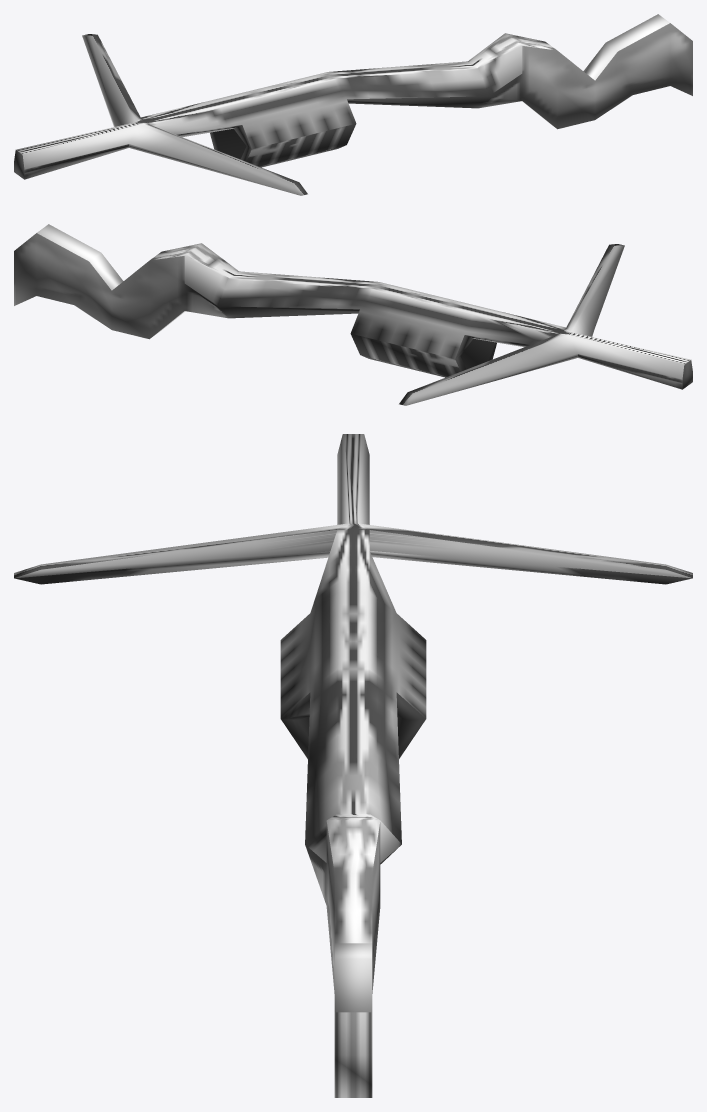
Rendered from Crossbow.fbx.
The picture shows the model from 3 angles, top to bottom: view 1: azimuth 30°, elevation 25°; view 2: azimuth 150°, elevation 25°; view 3: azimuth 270°, elevation 25°; orthographic projection. The views are drawn at different scales.
Visible parts, largest first — view 1: COLOR1; view 2: COLOR1; view 3: COLOR1.
Boxes of the visible parts, x1=… form: COLOR1: x1=14, y1=14, x2=692, y2=195; COLOR1: x1=14, y1=224, x2=692, y2=405; COLOR1: x1=14, y1=434, x2=692, y2=1097.
Bounding box in the file's own units: 887 × 130 × 504.
Materials: 1 (1 with a texture image).
